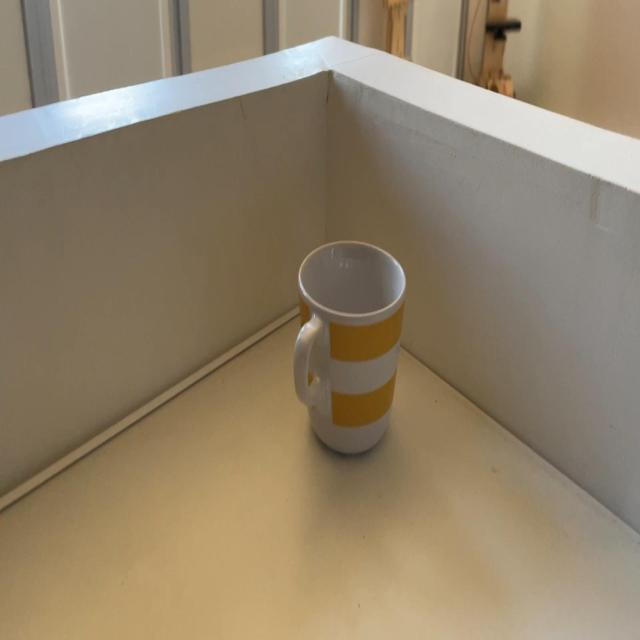cup: (288, 233, 412, 457)
